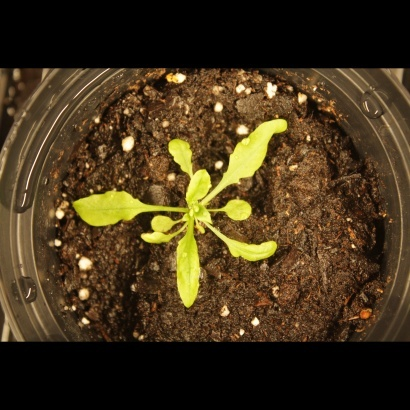leaf: (220, 116, 295, 188), (67, 187, 146, 229), (172, 232, 207, 313), (218, 232, 283, 266), (163, 131, 196, 177), (181, 169, 213, 206), (222, 193, 257, 225), (139, 226, 170, 253), (146, 213, 177, 236), (191, 204, 214, 227)
